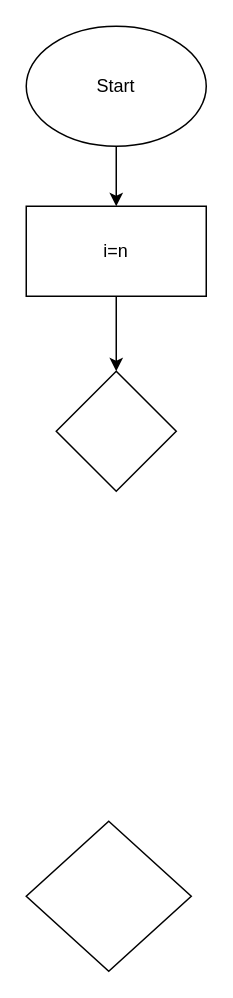
Some shapes in this 233 by 998 pixel diagram are drawn without their labels. Here are the shapes that lost their labels. From the top down, the box of each, then its label:
(55, 370, 176, 491): i!=2
(25, 820, 191, 971): A[j]>A[j+1]
